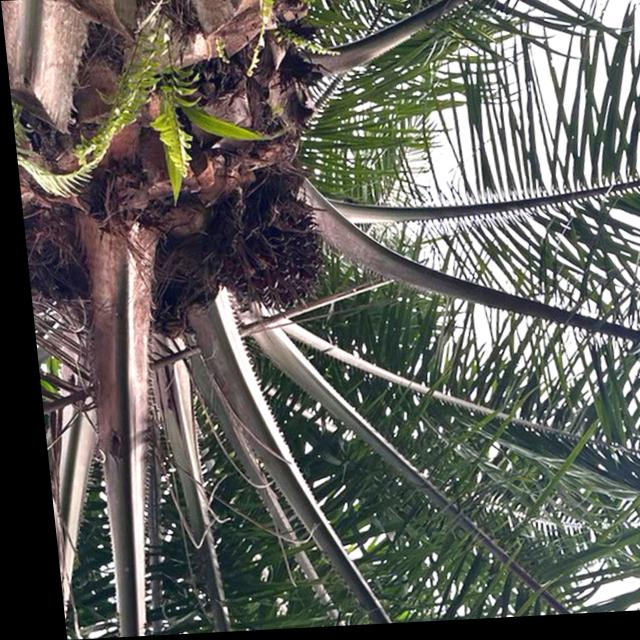ripe: (193, 189, 335, 331)
